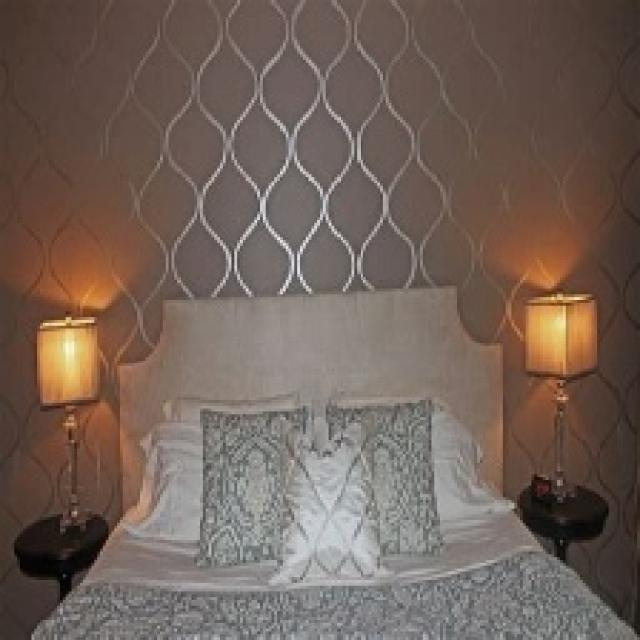Bed: (12, 283, 637, 637)
